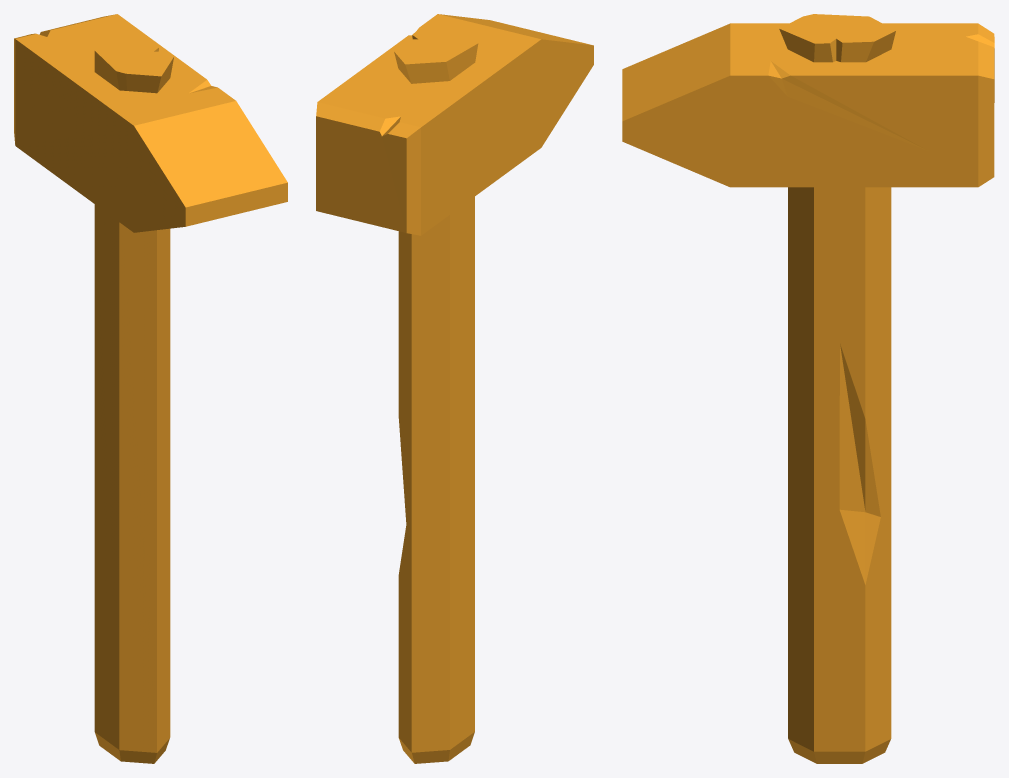
Rendered from SM_Hammer_Blacksmith_A.fbx.
3 views of the same model, side by side, from view 1: azimuth 30°, elevation 25°; view 2: azimuth 150°, elevation 25°; view 3: azimuth 270°, elevation 25° (orthographic). The views are drawn at different scales.
Parts seen in each view (by area): view 1: hammer-blacksmith-a; view 2: hammer-blacksmith-a; view 3: hammer-blacksmith-a.
Part boxes in pixels (x1,y1,x2,y2): hammer-blacksmith-a: (14,14,287,763); hammer-blacksmith-a: (316,14,593,763); hammer-blacksmith-a: (622,14,994,763).
Size of the model in its own units: 0.06 by 0.3884 by 0.1811.
